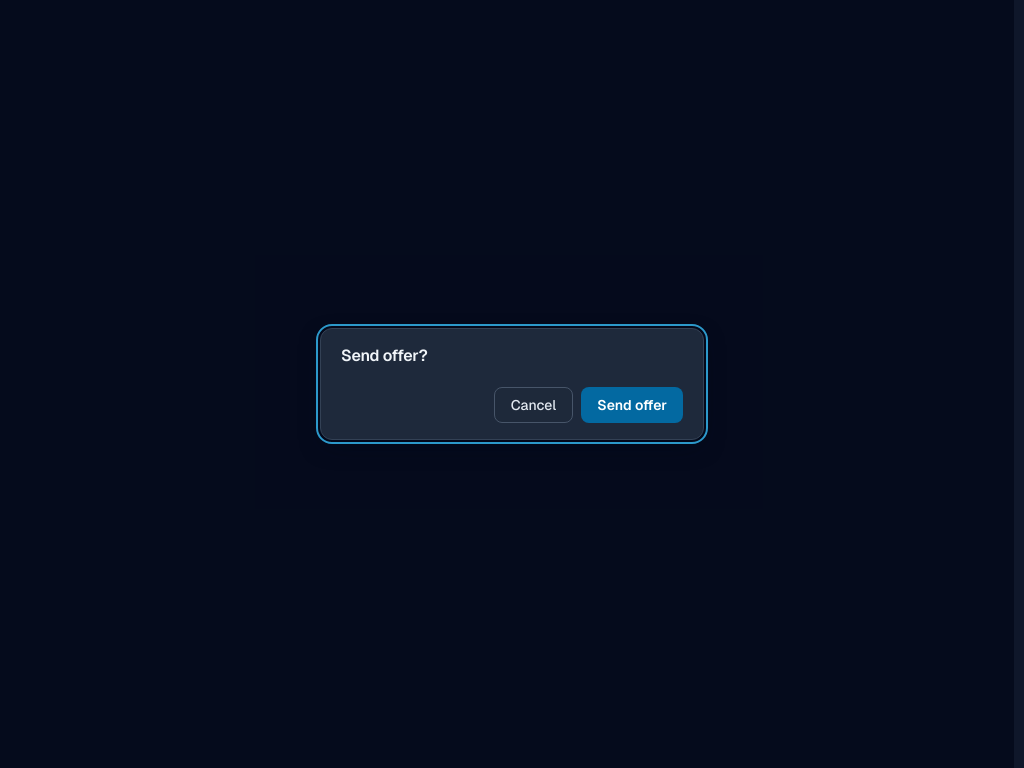
Test: ConfirmDialog › stays open and shows the backend reason when an async confirm fails
Click the button with test id "confirm-ok".
click(632, 405)  # box [581,387,683,423]
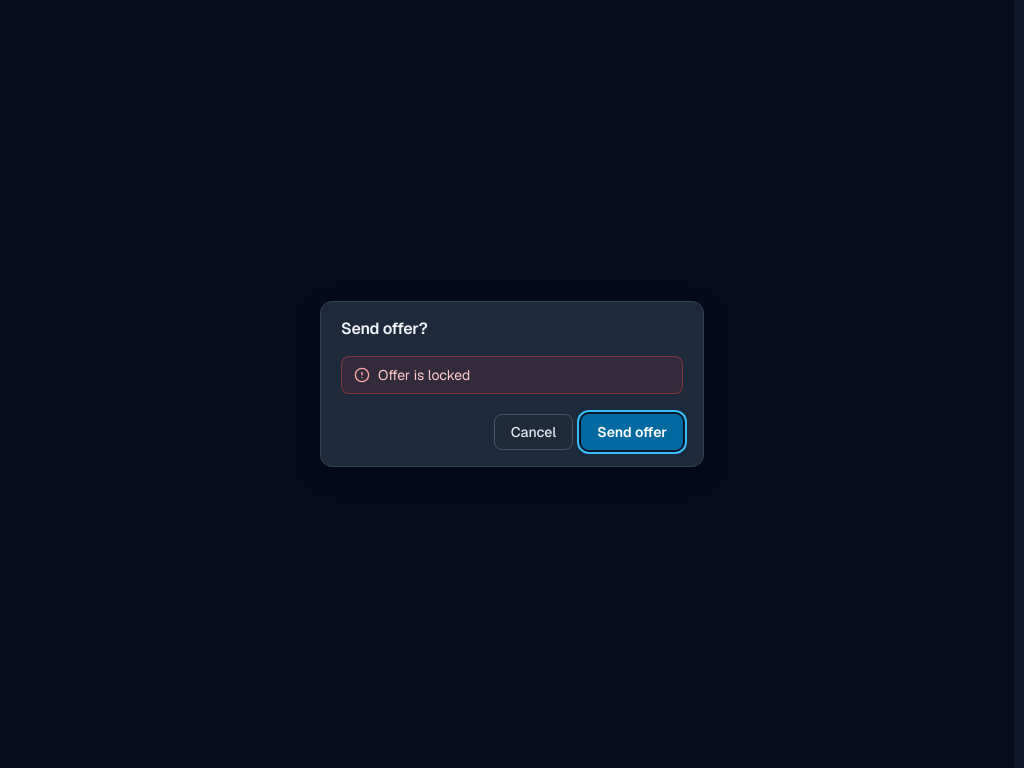
Expected: the dialog is shown, [320,301,704,467]
Result: the message reads "Offer is locked" at [378,366,470,384]
